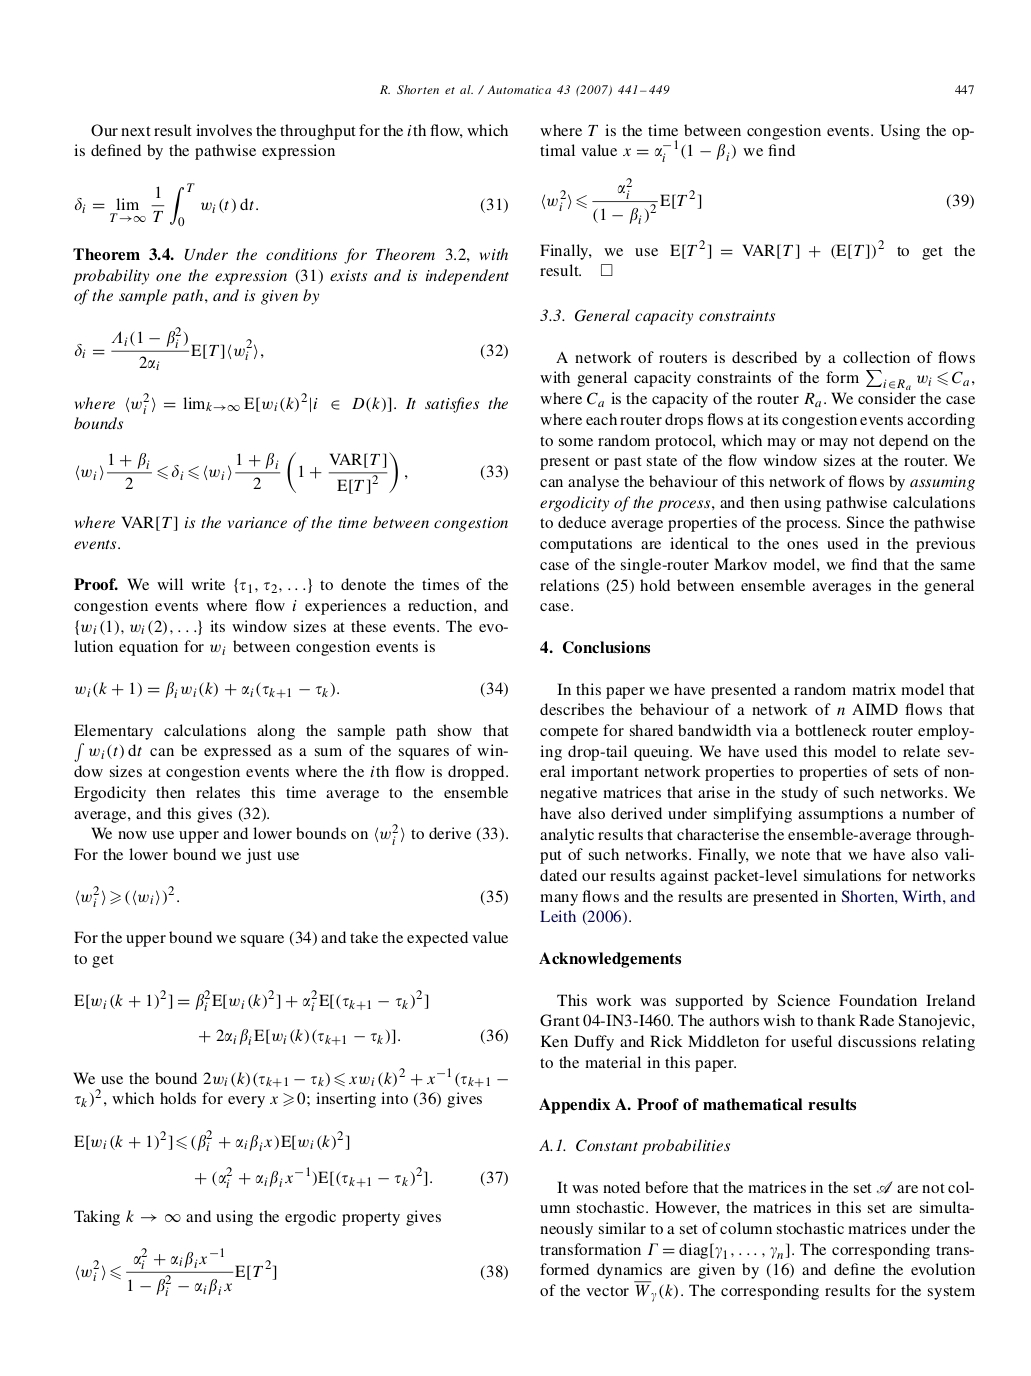formula: (76, 1247, 507, 1296), (541, 176, 973, 224), (74, 182, 507, 227), (74, 325, 507, 370), (76, 451, 507, 494), (76, 884, 507, 907), (74, 988, 428, 1011), (75, 680, 507, 698), (195, 1165, 507, 1188), (74, 1128, 349, 1151), (199, 1027, 507, 1045)
